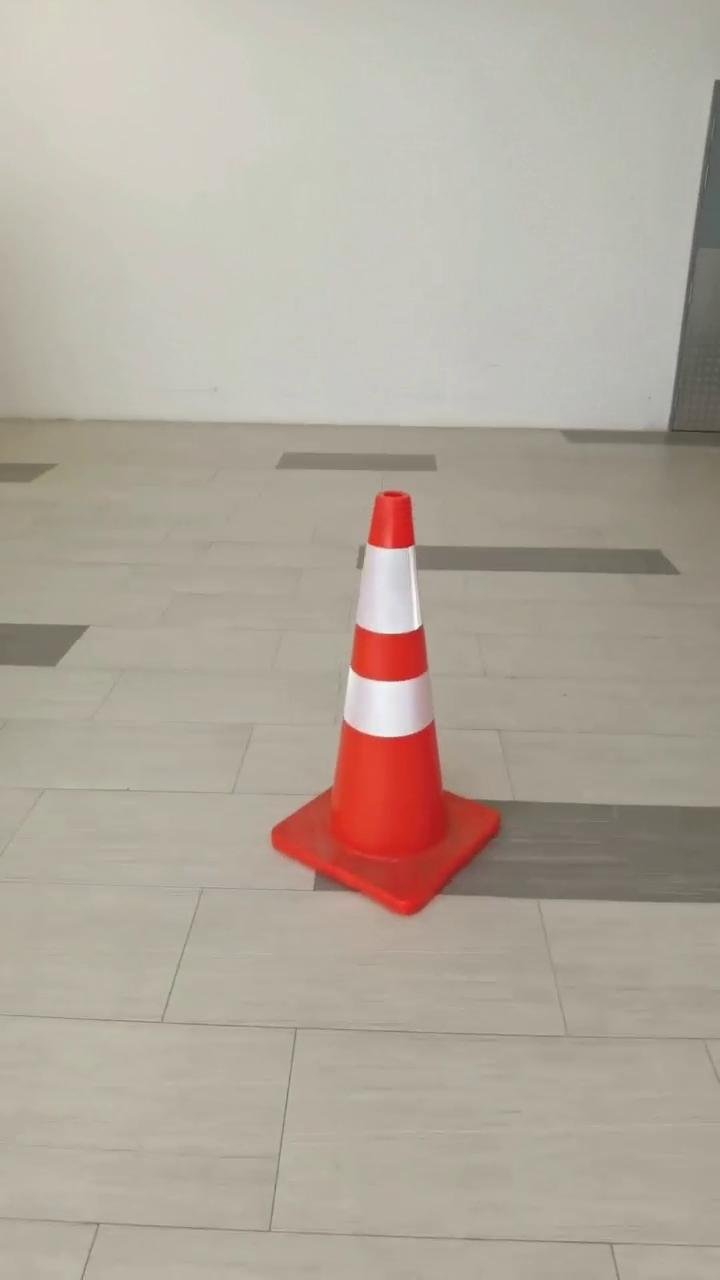traffic cone: (270, 490, 501, 918)
